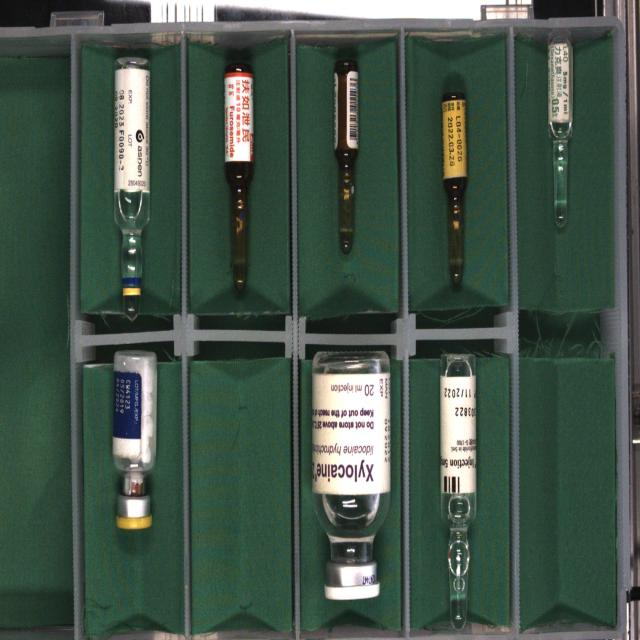Vials: (312, 351, 391, 601), (113, 351, 157, 530)
